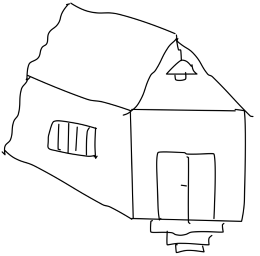big_house: (1, 1, 260, 256)
closed_window: (41, 109, 104, 162)
door: (153, 142, 224, 227)
roof: (13, 0, 257, 114)
wall: (115, 102, 255, 227)
